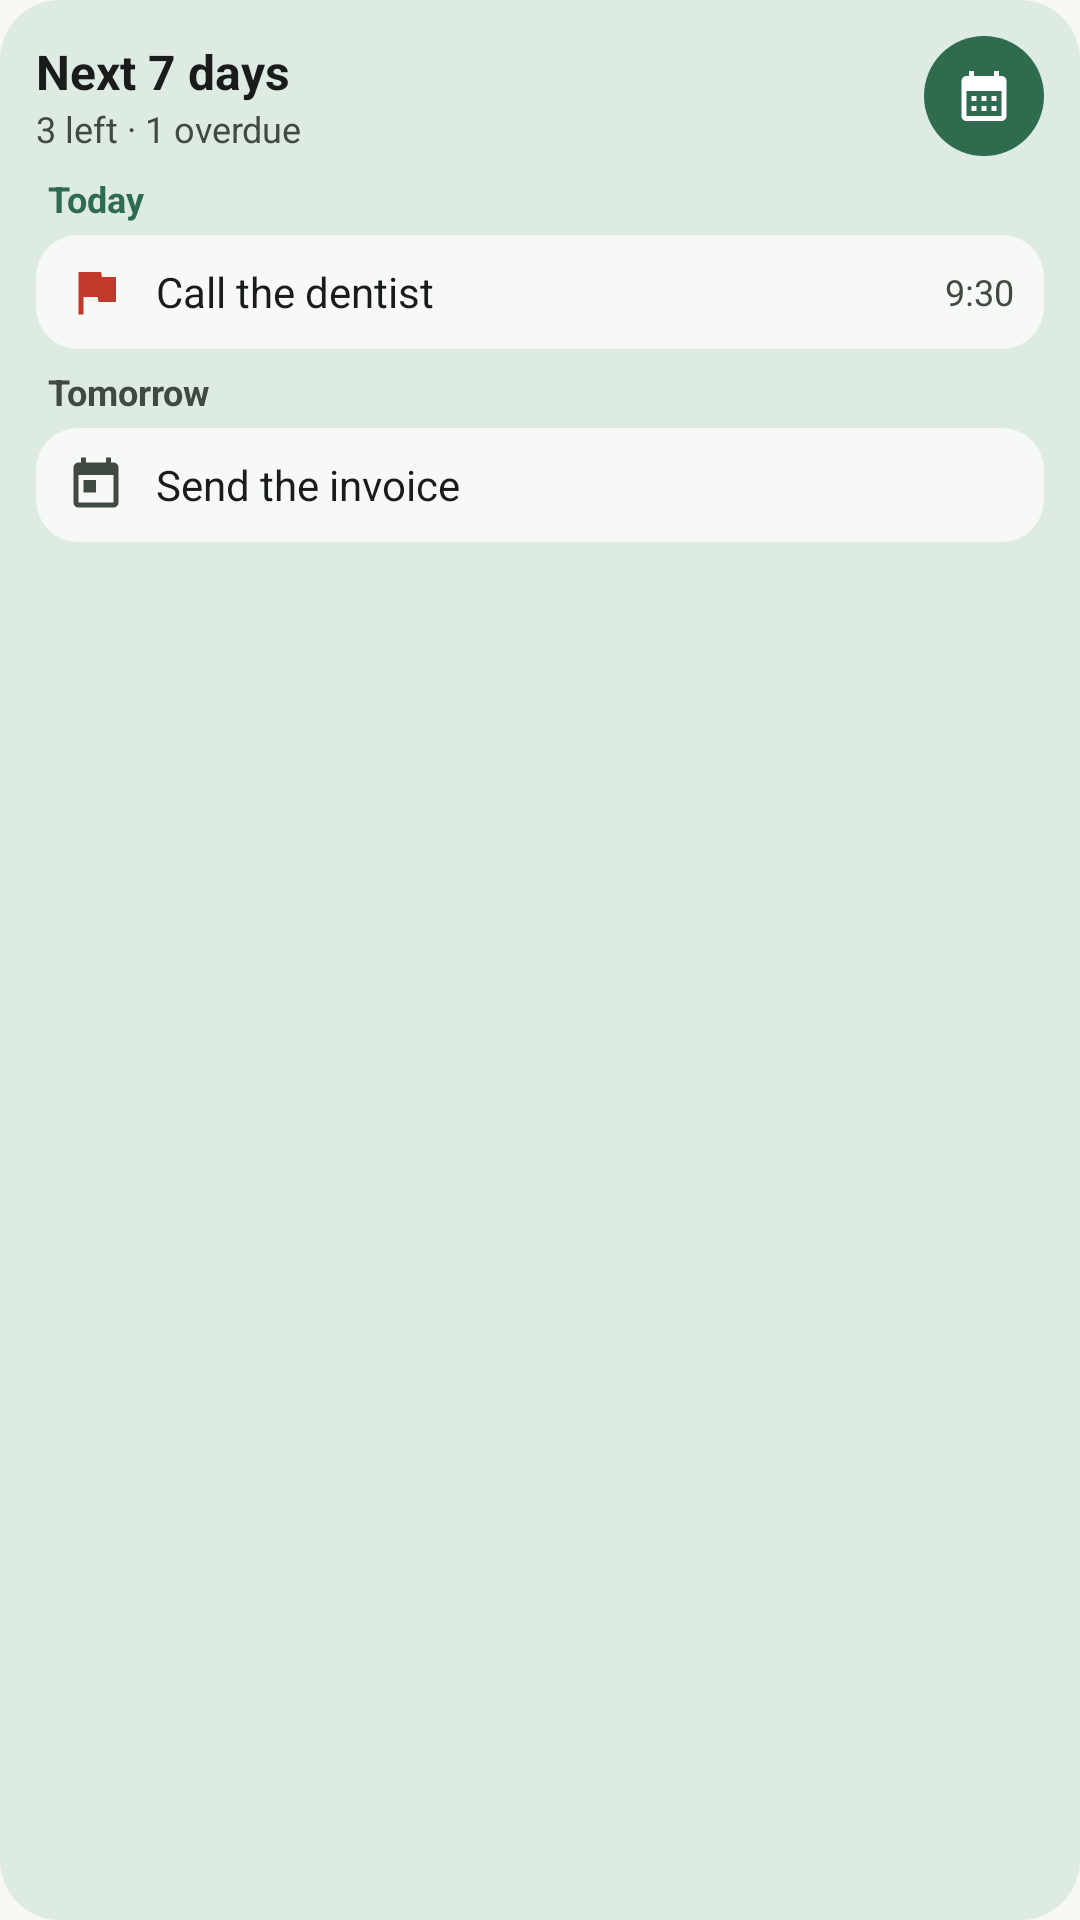

Icons on this 1080px×1920px Android screen, each with its box as bbox=[x1, y1, x2, y2]:
widget calendar: bbox=[961, 71, 1007, 121]
widget flag: bbox=[78, 272, 116, 315]
widget today: bbox=[73, 457, 119, 508]
